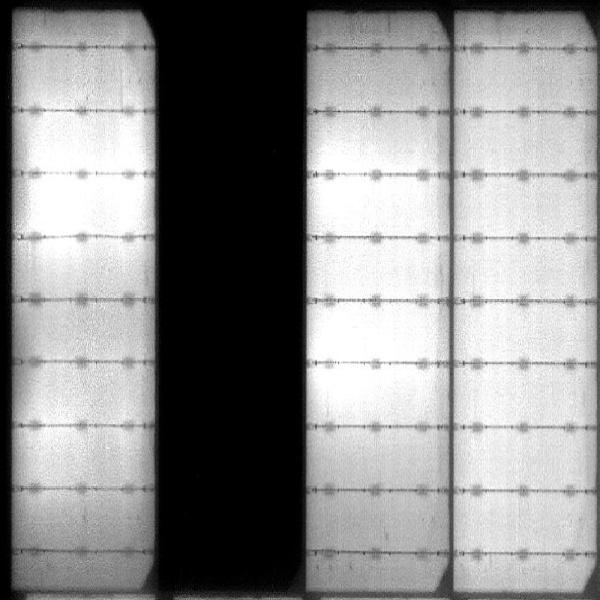hot_spot: (82, 182, 133, 224), (37, 179, 75, 230)
no_electricity: (155, 6, 309, 600)
